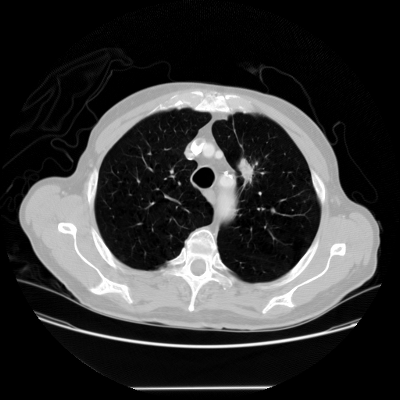nodule: (235, 158, 259, 182)
